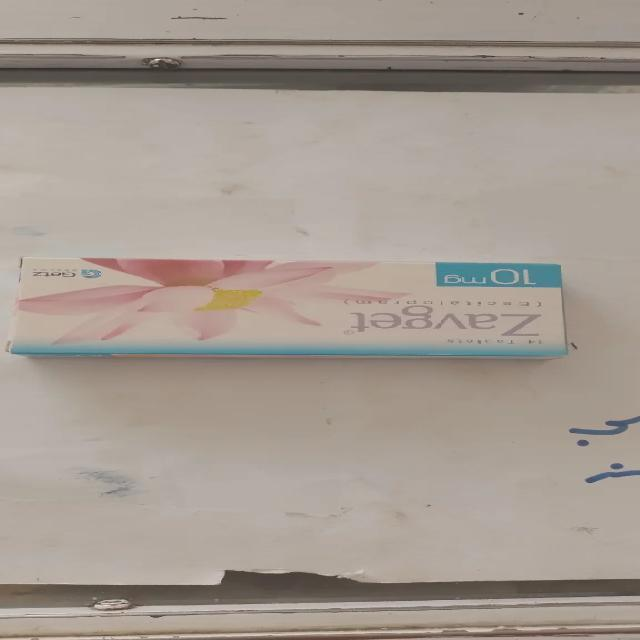drug-name: (350, 304, 542, 339)
